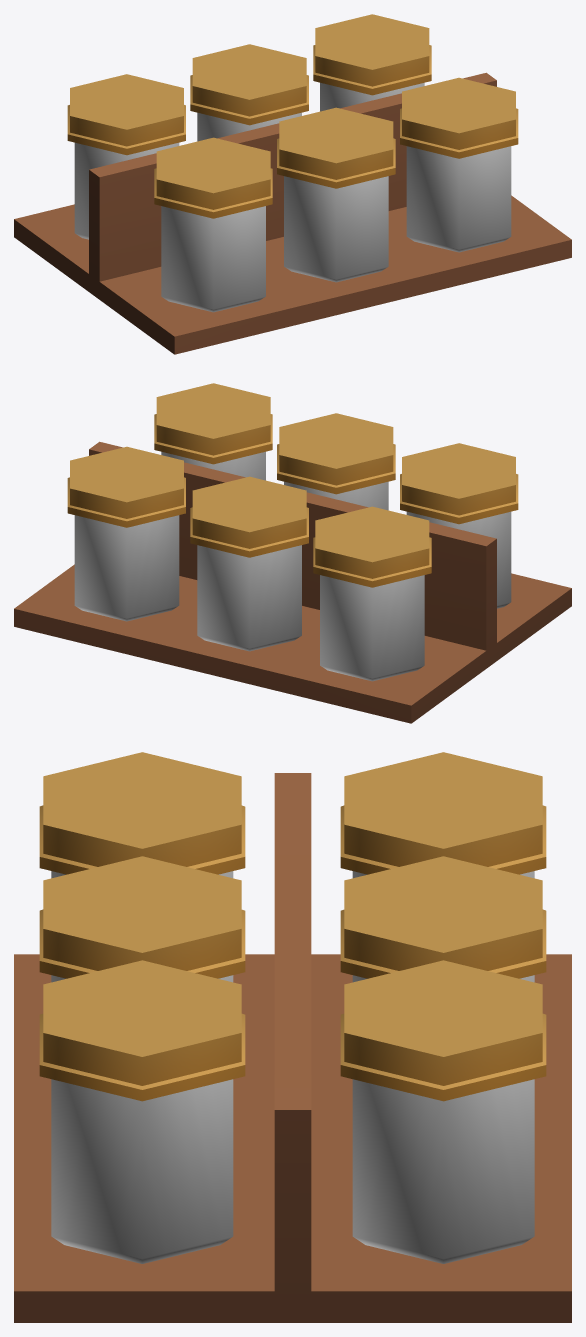
Rendered from CR_caf_Salt_001.FBX.
3 views of the same model, one above another, from view 1: azimuth 30°, elevation 25°; view 2: azimuth 150°, elevation 25°; view 3: azimuth 270°, elevation 25° (orthographic). The views are drawn at different scales.
Visible parts, largest first — view 1: CR_caf_Salt_001; view 2: CR_caf_Salt_001; view 3: CR_caf_Salt_001.
Part boxes in pixels (box(x1,y1,x2,y2)): CR_caf_Salt_001: box(14, 14, 571, 354); CR_caf_Salt_001: box(14, 383, 571, 723); CR_caf_Salt_001: box(14, 752, 571, 1322).
Size of the model in its own units: 14.76 by 5.1 by 10.33.
